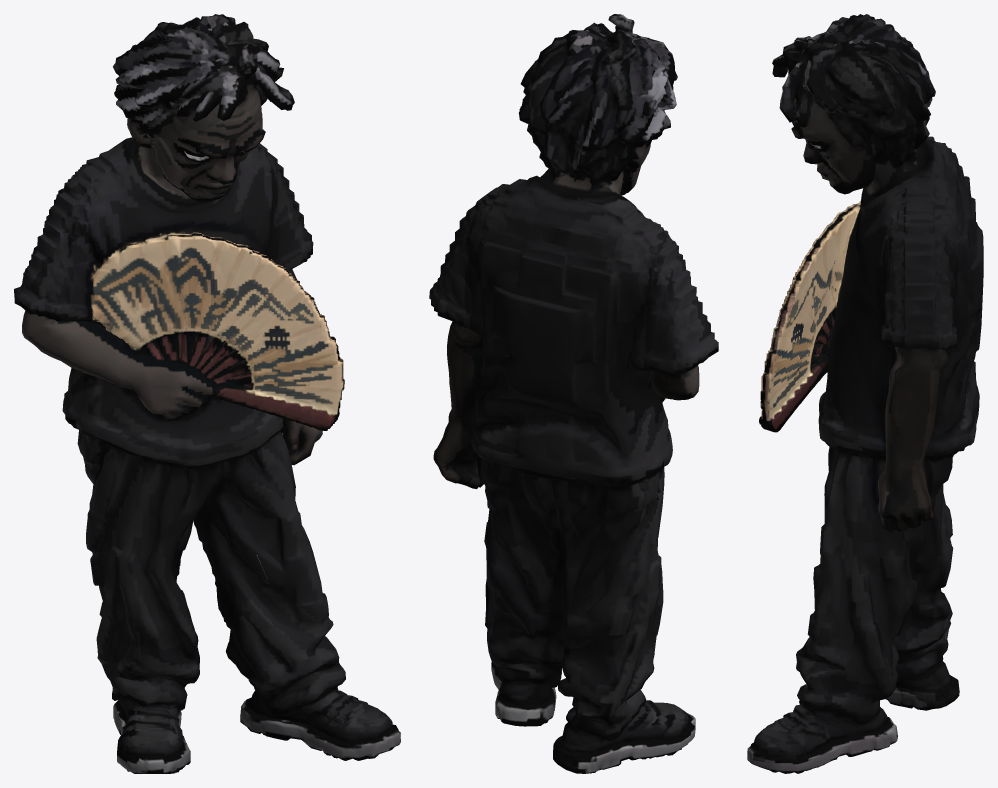
3 views of the same model, side by side, from view 1: azimuth 30°, elevation 25°; view 2: azimuth 150°, elevation 25°; view 3: azimuth 270°, elevation 25° (orthographic). The views are drawn at different scales.
Parts seen in each view (by area): view 1: tripo_node_5a232555-f347-4336-90b2-6108c587d2de; view 2: tripo_node_5a232555-f347-4336-90b2-6108c587d2de; view 3: tripo_node_5a232555-f347-4336-90b2-6108c587d2de.
Part boxes in pixels (<box>): tripo_node_5a232555-f347-4336-90b2-6108c587d2de: <box>14,14,400,773</box>; tripo_node_5a232555-f347-4336-90b2-6108c587d2de: <box>429,14,718,773</box>; tripo_node_5a232555-f347-4336-90b2-6108c587d2de: <box>747,14,983,773</box>.
Bounding box in the file's own units: 0.4131 × 0.9798 × 0.3051.
1 material, 1 textured.
